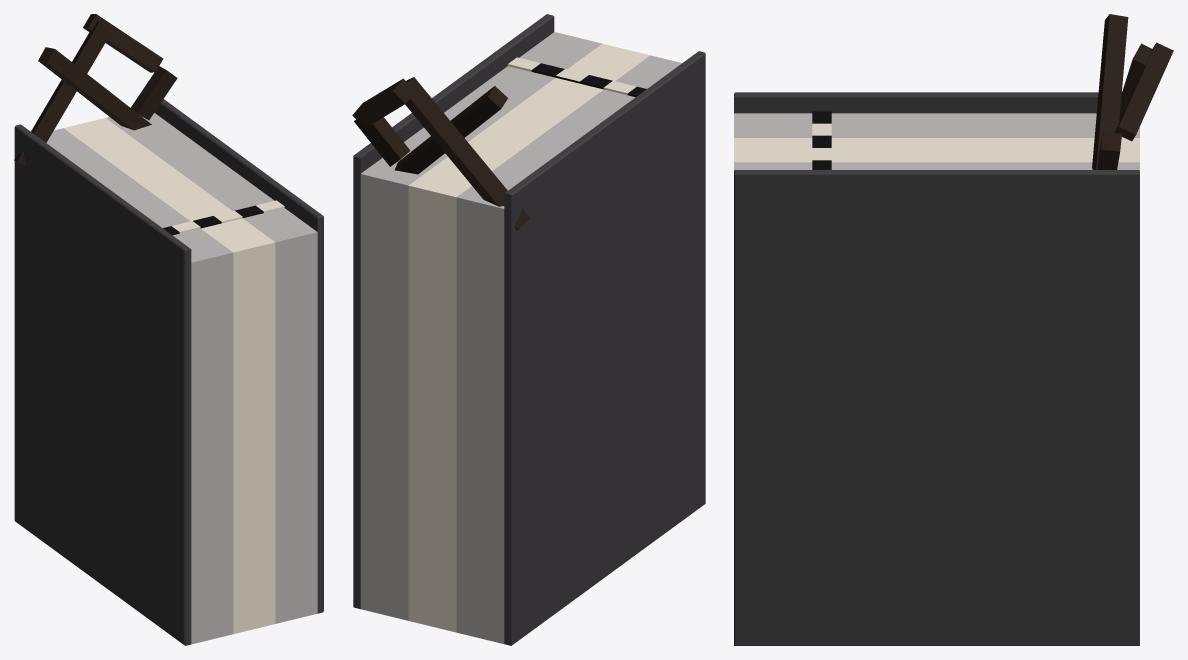
The model's file is FloorFinish.fbx.
3 renders of one model, left to right at view 1: azimuth 30°, elevation 25°; view 2: azimuth 150°, elevation 25°; view 3: azimuth 270°, elevation 25°, orthographic. The views are drawn at different scales.
Parts seen in each view (by area): view 1: FloorFinish, Cube.002, Cube; view 2: FloorFinish, Cube.002, Cube; view 3: FloorFinish, Cube.002, Cube.
Boxes of the visible parts, x1,y1,x2,y2 form: FloorFinish: (14, 99, 323, 645); Cube.002: (14, 14, 177, 165); Cube: (163, 200, 284, 235); FloorFinish: (353, 14, 705, 645); Cube.002: (352, 77, 530, 230); Cube: (507, 57, 646, 97); FloorFinish: (734, 92, 1139, 645); Cube.002: (1092, 14, 1173, 169); Cube: (812, 111, 831, 169).
Size of the model in its own units: 2193 by 6555 by 4550.
